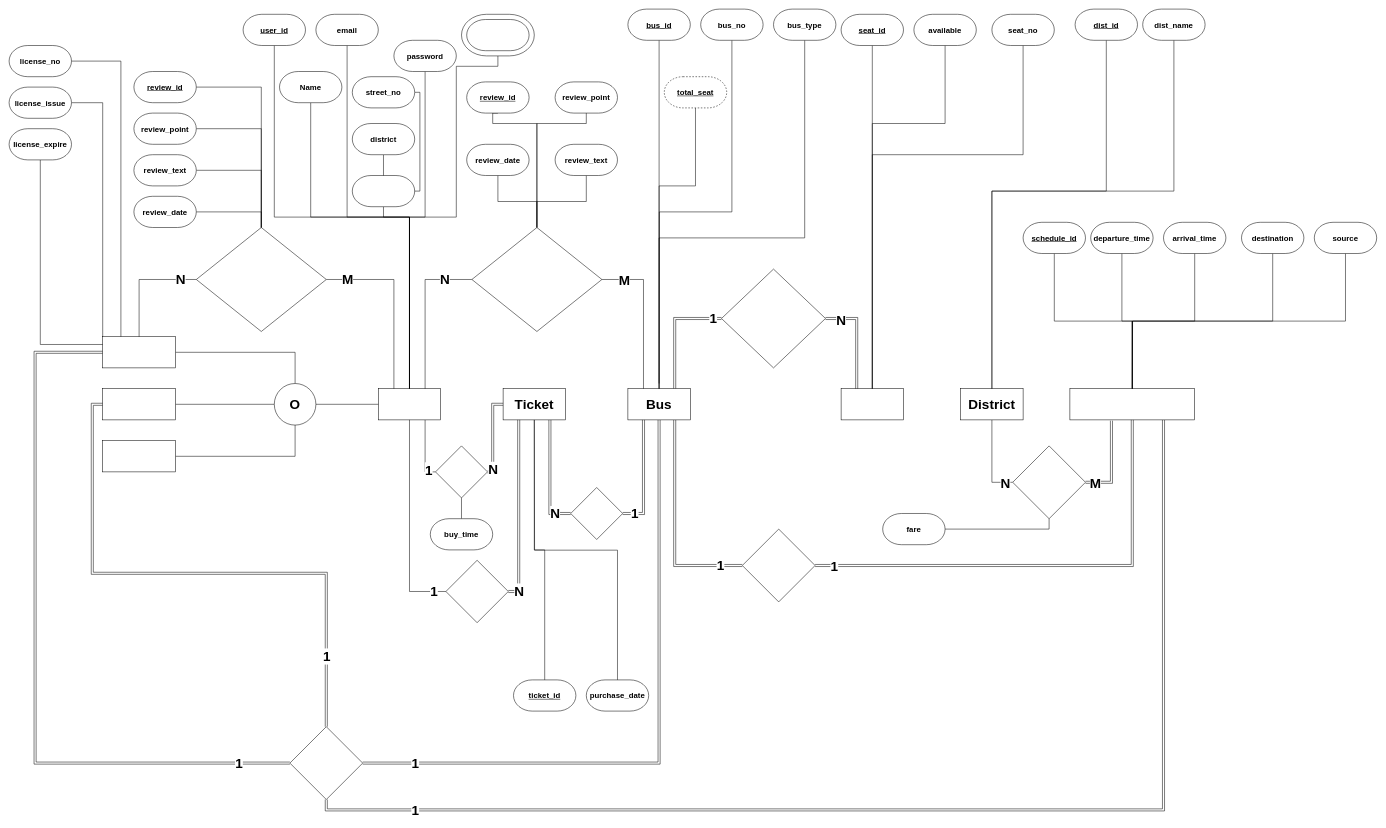
Image size: 1386x828. Some labels were removed from this diagram. Here are the shapes that lost their labels. From the top down, the centre of each, then its label:
pixel 497 35: phone
pixel 383 191: address
pixel 261 279: DriverReview
pixel 536 279: BusReview
pixel 773 318: SeatStatus
pixel 139 352: BusDriver
pixel 139 404: Admin
pixel 409 404: User
pixel 872 404: Seat
pixel 1132 404: BusSchedule
pixel 139 456: General
pixel 461 471: Buys
pixel 1049 482: Route
pixel 596 513: For
pixel 778 565: Schedule
pixel 476 591: Refund
pixel 326 763: Assign
